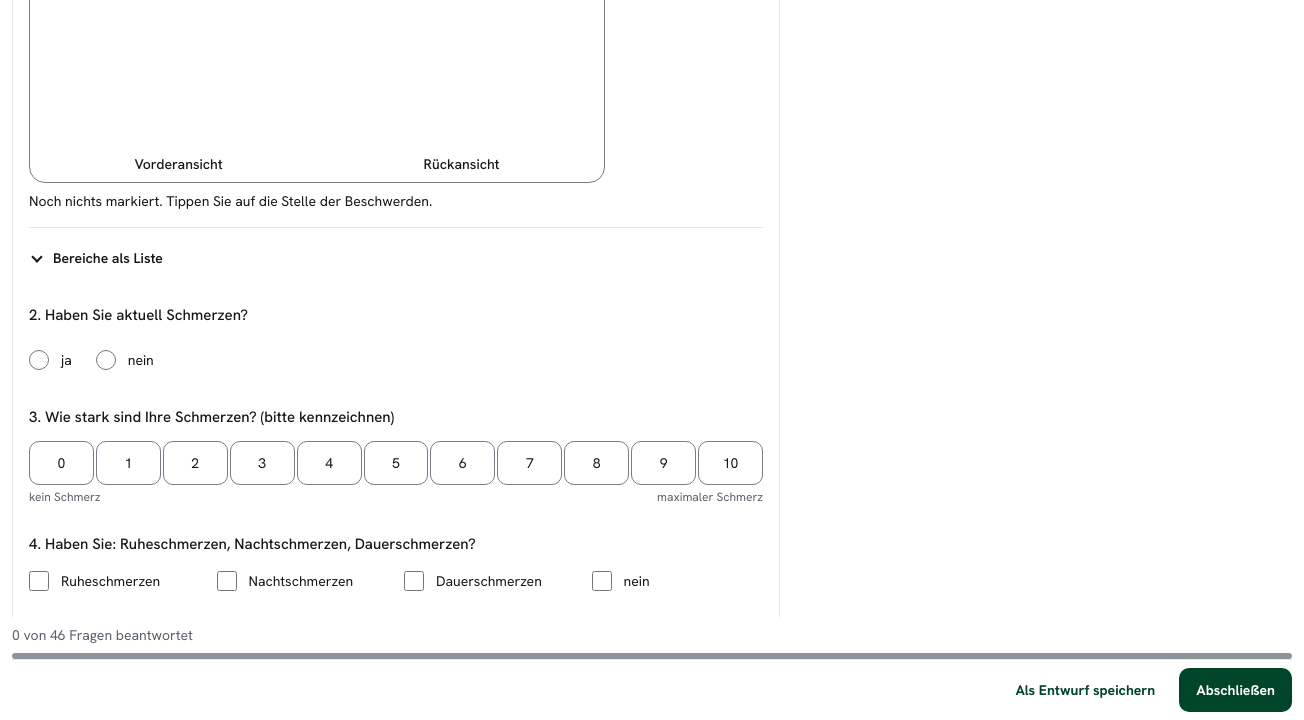
Test: Erhebung › Sicherung von selbst (BEF-056, ANN-319) › sichert den Bogen nach einer Pause als Entwurf, ohne ihn zu verlassen oder abzuschließen
(page scrolled)
Click the radio button labelled "ja" at (39, 360), box top-left (29, 350), bottom-right (49, 370)
Wait 3100 ms
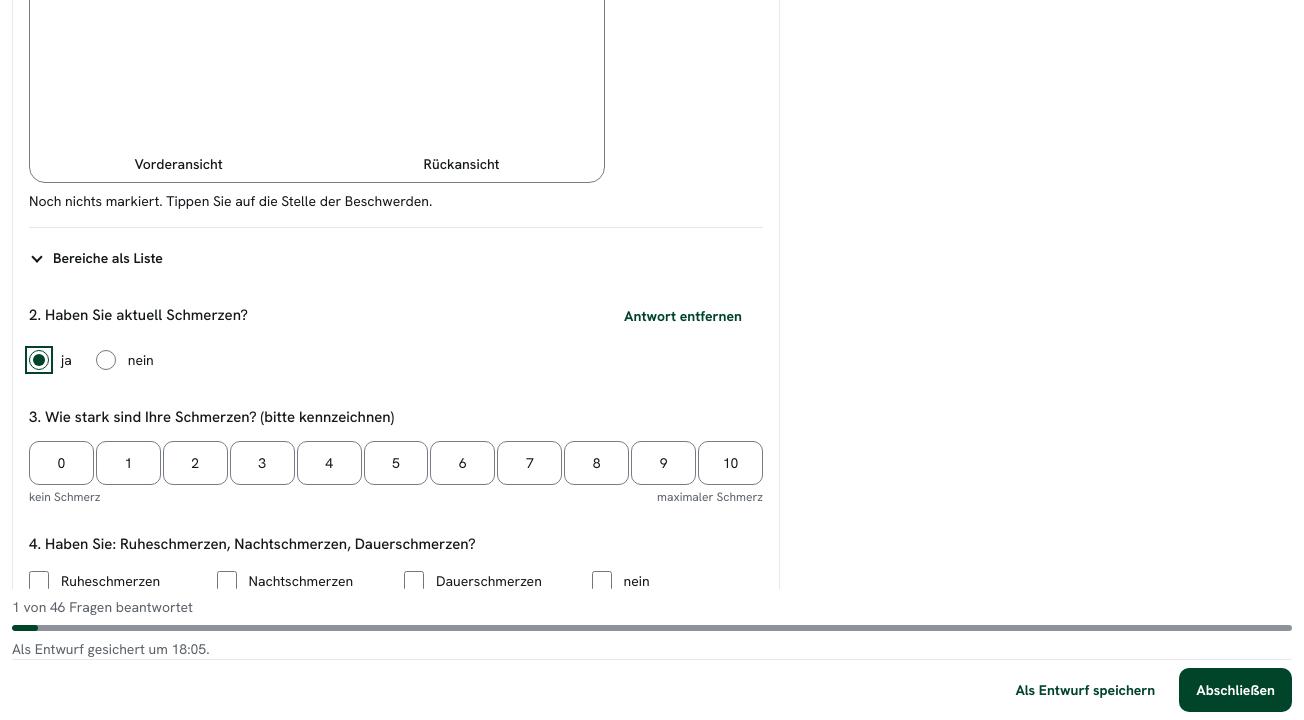
Check: the radio button labelled "ja" is checked, box top-left (29, 350), bottom-right (49, 370)
Check: the text "Als Entwurf gesichert um 18:05." is shown, box top-left (12, 640), bottom-right (210, 658)
